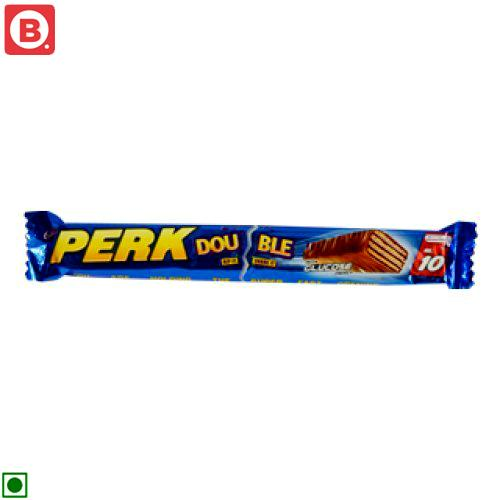Perk: (22, 209, 476, 290)
